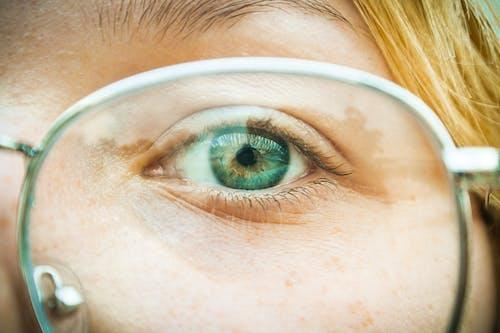eyeglasses: (0, 42, 500, 333)
